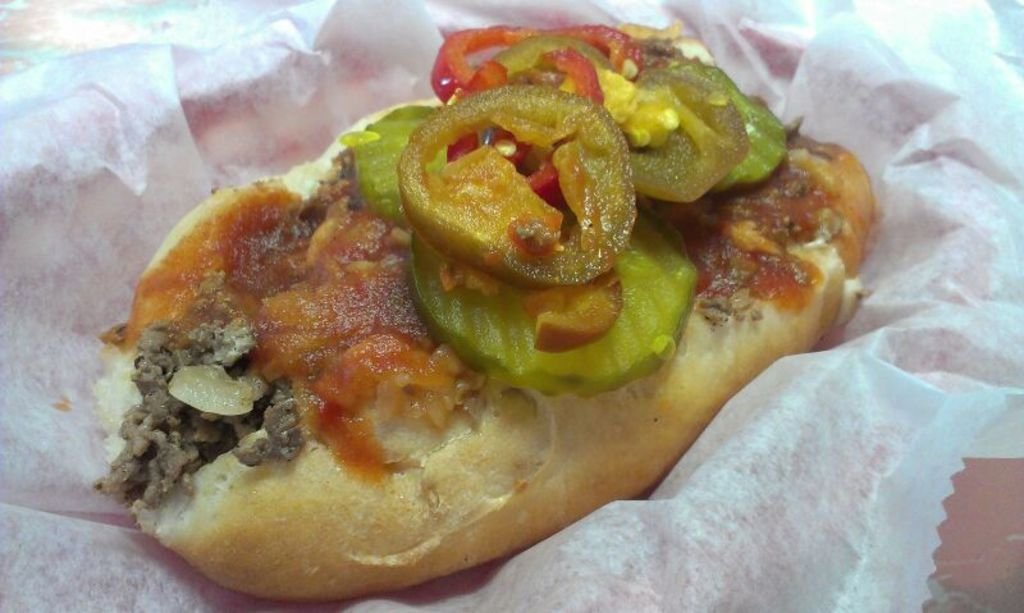hot_dog: (83, 24, 895, 613)
